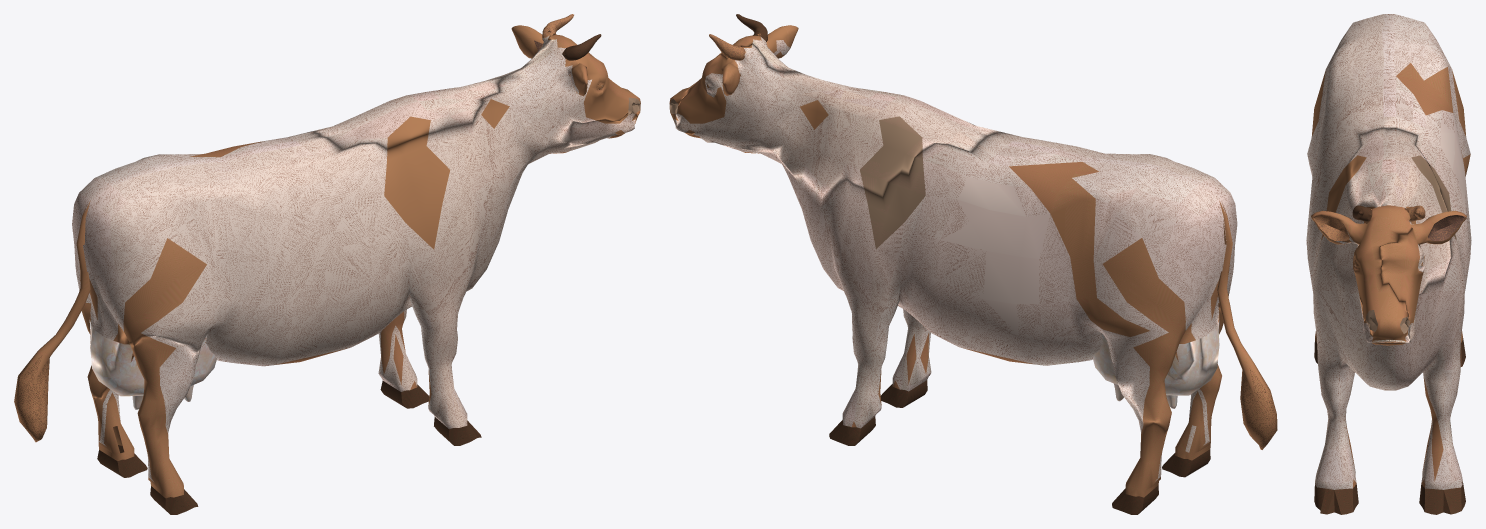
File: cow.fbx
The picture shows the model from 3 angles, left to right: view 1: azimuth 30°, elevation 25°; view 2: azimuth 150°, elevation 25°; view 3: azimuth 270°, elevation 25°; orthographic projection. The views are drawn at different scales.
Parts seen in each view (by area): view 1: Group1, Group3, Group4; view 2: Group1, Group3, Group4; view 3: Group1, Group4, Group8, Group6, Group5, Group7, Group2.
Boxes of the visible parts, <box> form: Group1: <box>14,25,640,498</box>; Group3: <box>89,320,216,409</box>; Group4: <box>97,381,481,514</box>; Group1: <box>669,25,1277,497</box>; Group3: <box>1093,320,1219,408</box>; Group4: <box>829,380,1210,514</box>; Group1: <box>1306,14,1471,489</box>; Group4: <box>1314,338,1465,514</box>; Group8: <box>1428,215,1465,240</box>; Group6: <box>1312,215,1349,240</box>; Group5: <box>1366,310,1410,333</box>; Group7: <box>1352,205,1372,221</box>; Group2: <box>1406,205,1425,221</box>.
Bounding box in the file's own units: 3153 × 1756 × 706.
